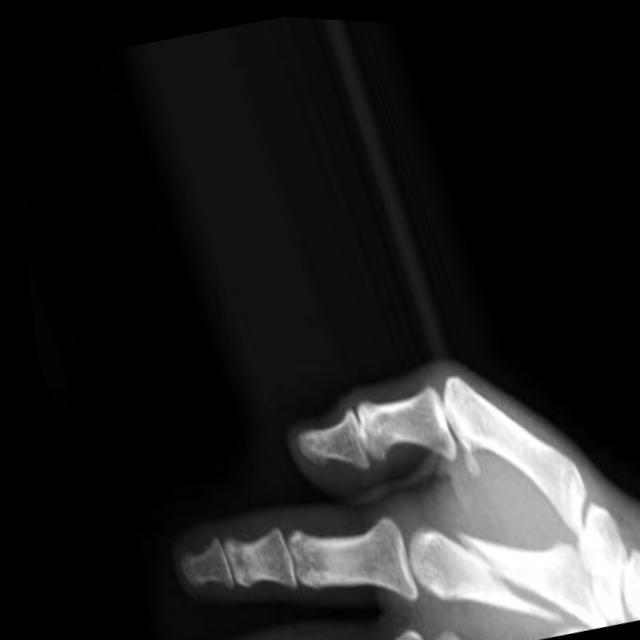fracture: (430, 499, 569, 640)
